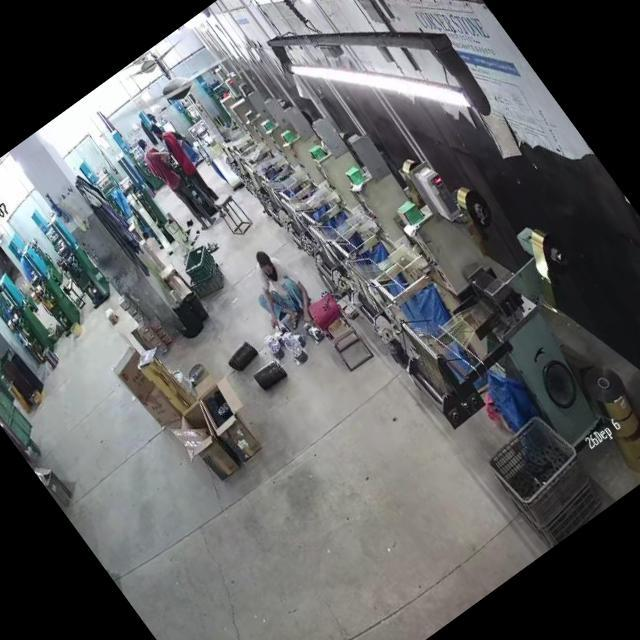person: (130, 126, 221, 237), (232, 238, 326, 340), (148, 114, 233, 220)
